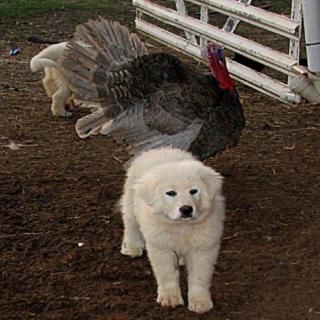dog: (136, 164, 230, 230)
nose: (179, 202, 194, 216)
